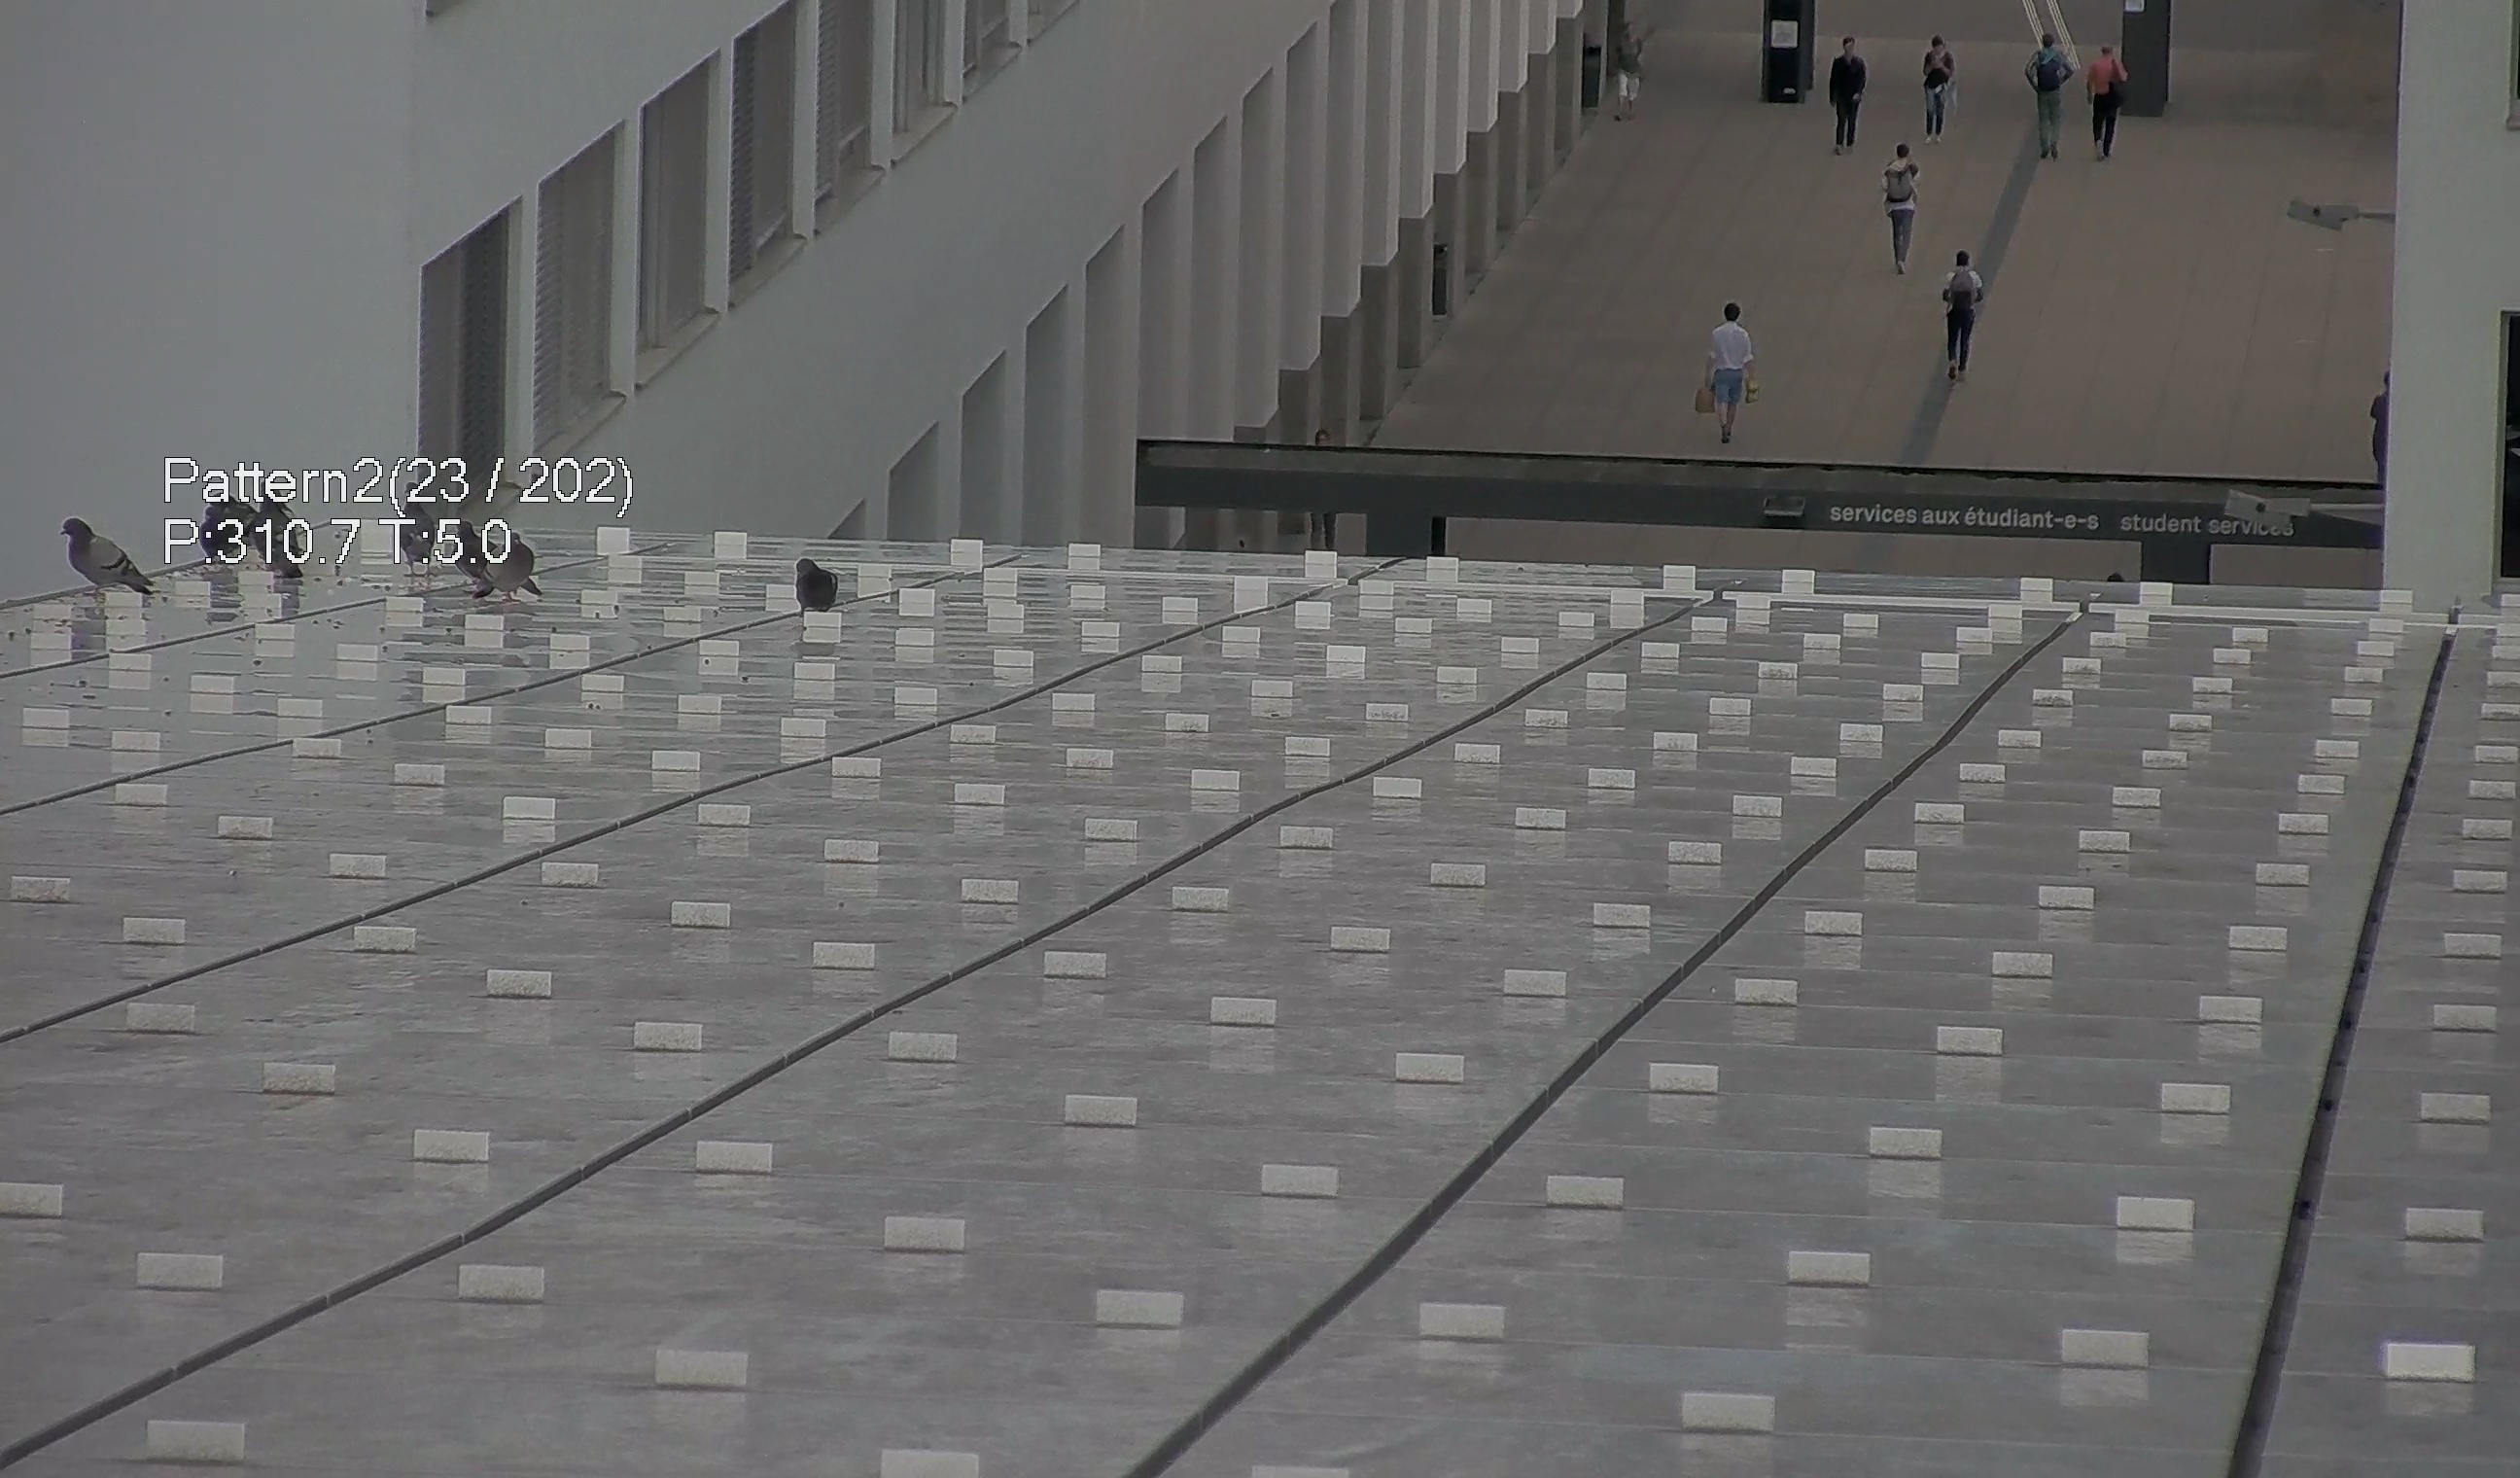Pigeon: (56, 509, 179, 609), (784, 547, 858, 625), (484, 530, 538, 621)
